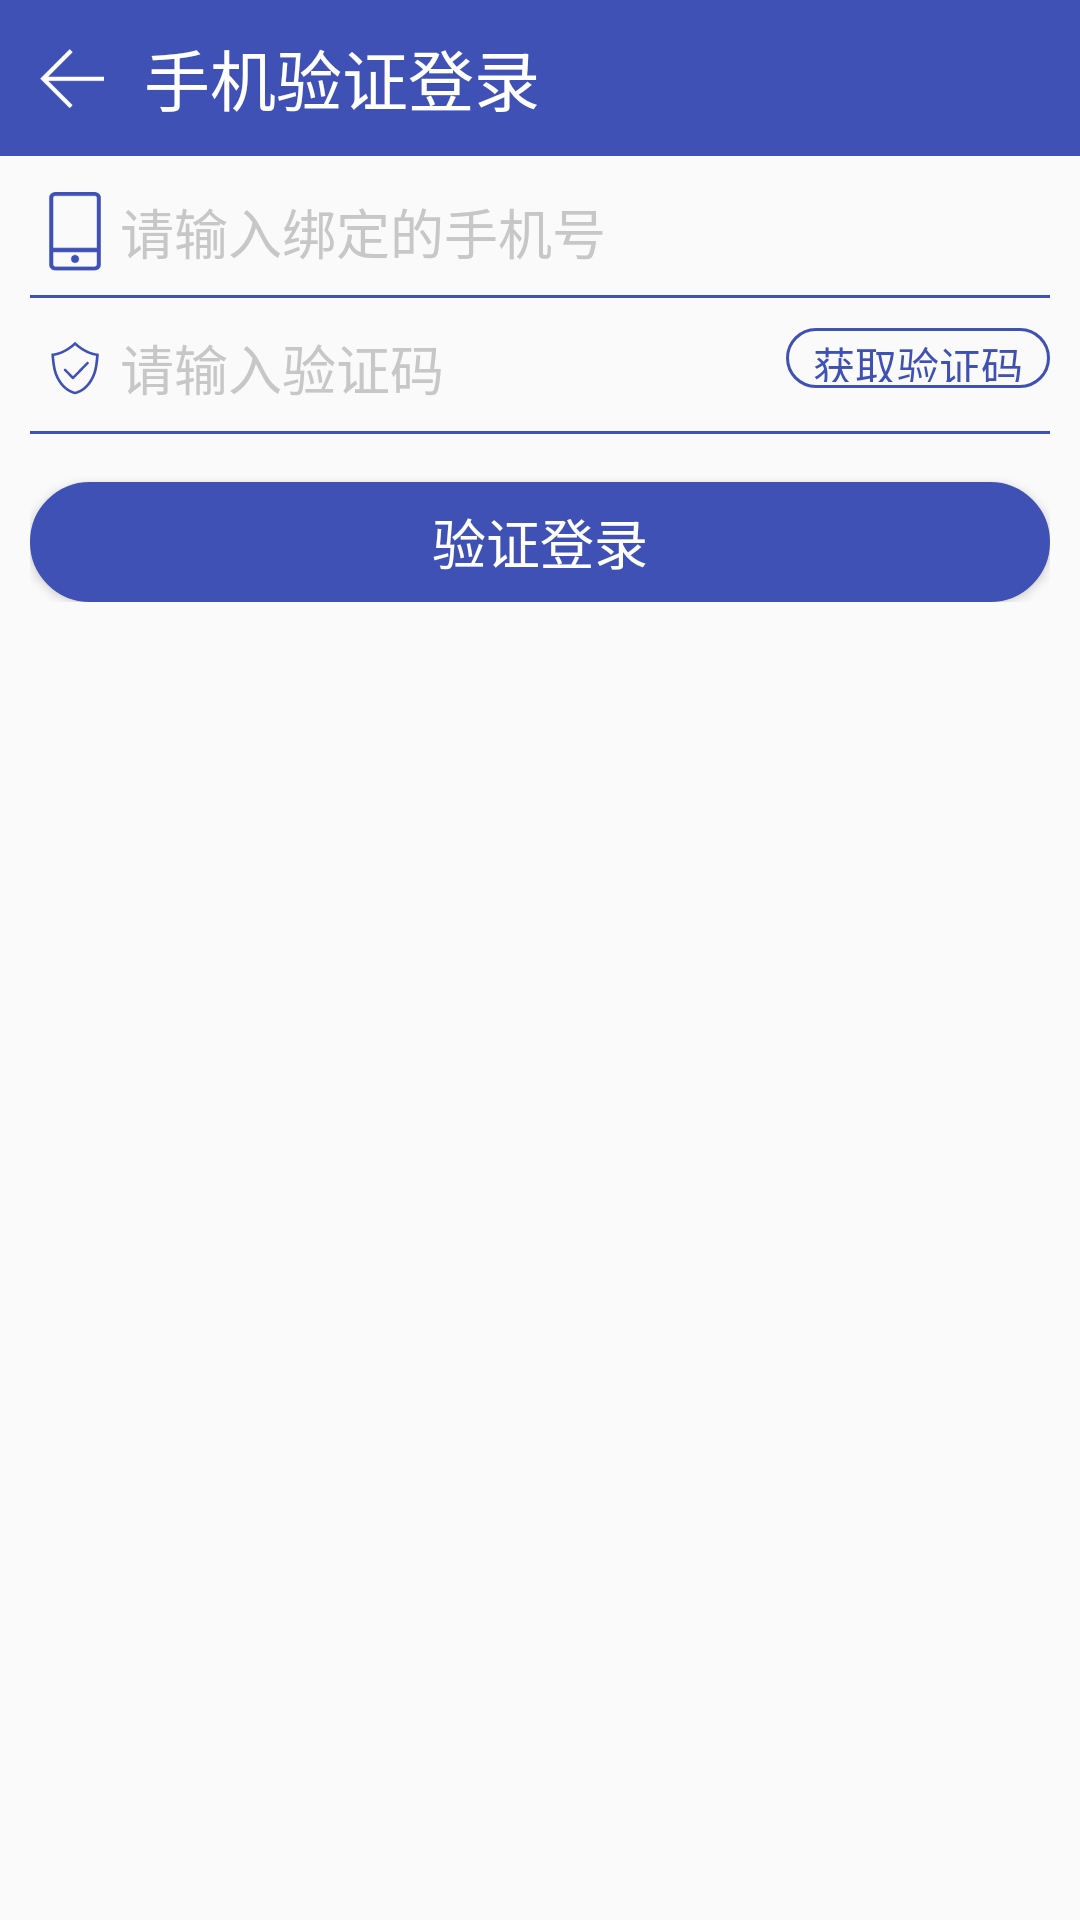

Where icons sit on this 1080px x 1920px app screen, as (left=x1, top=y1, right=x2, bottom=y2):
back: (left=40, top=49, right=104, bottom=108)
check: (left=51, top=342, right=99, bottom=395)
phone: (left=49, top=192, right=101, bottom=271)
